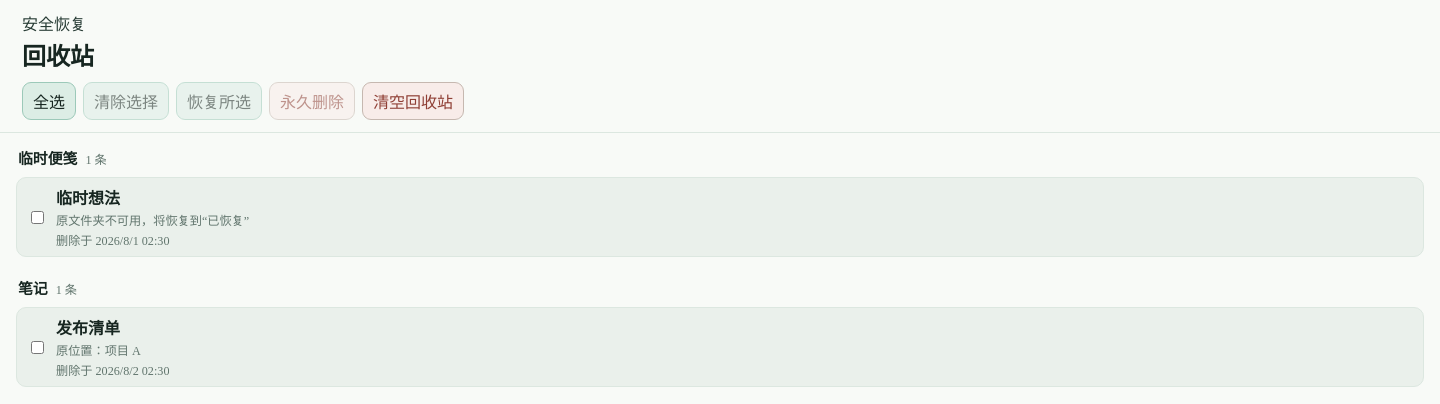
TrashView › multi-selects and restores entries while reporting the missing-folder recovery destination
Click the checkbox named "选择 发布清单": (38,347) [31,340,44,354]
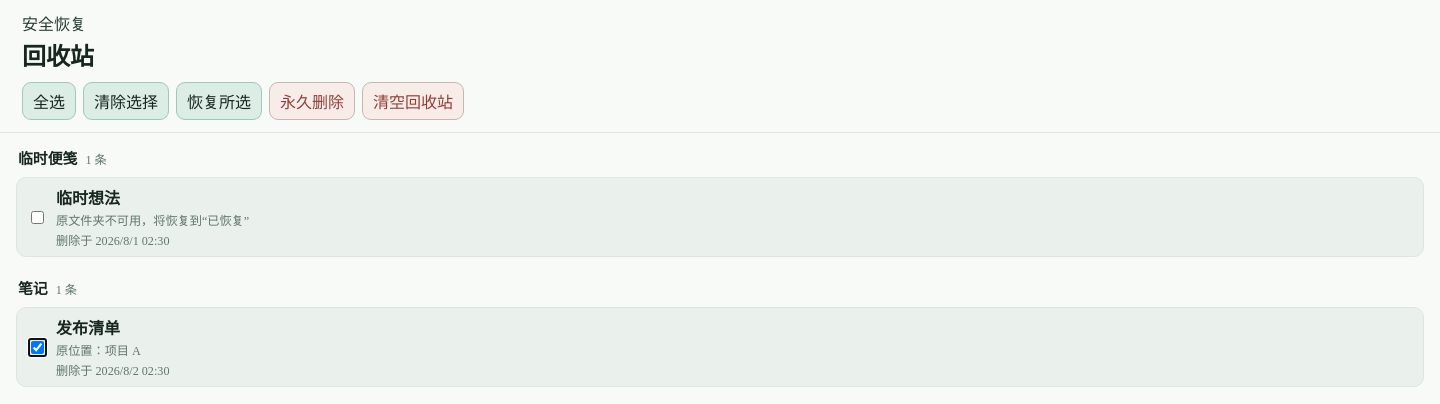
Click the checkbox named "选择 临时想法": (38,217) [31,210,44,224]
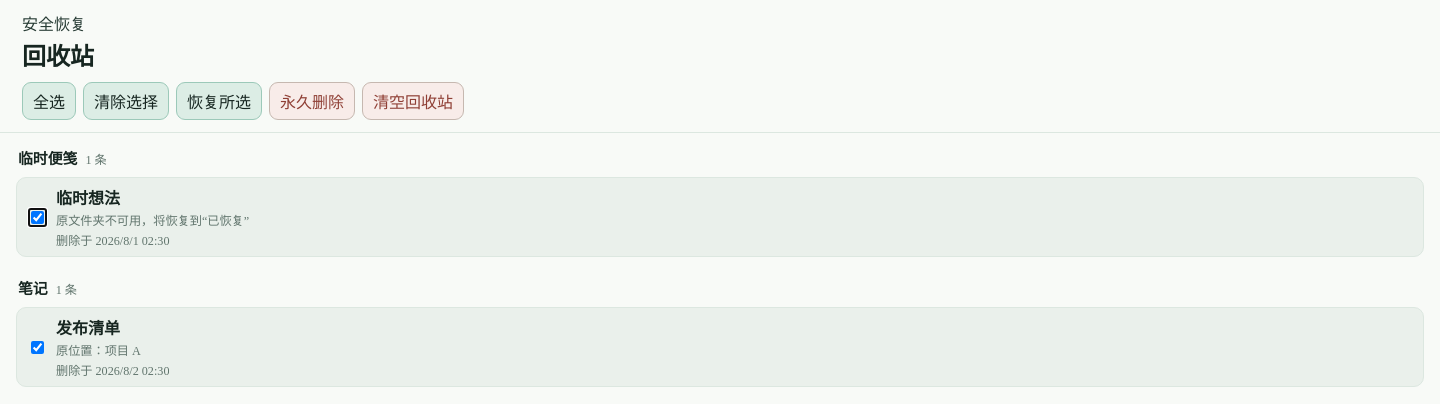
Click the button "恢复所选": (219,101) [176,82,262,120]
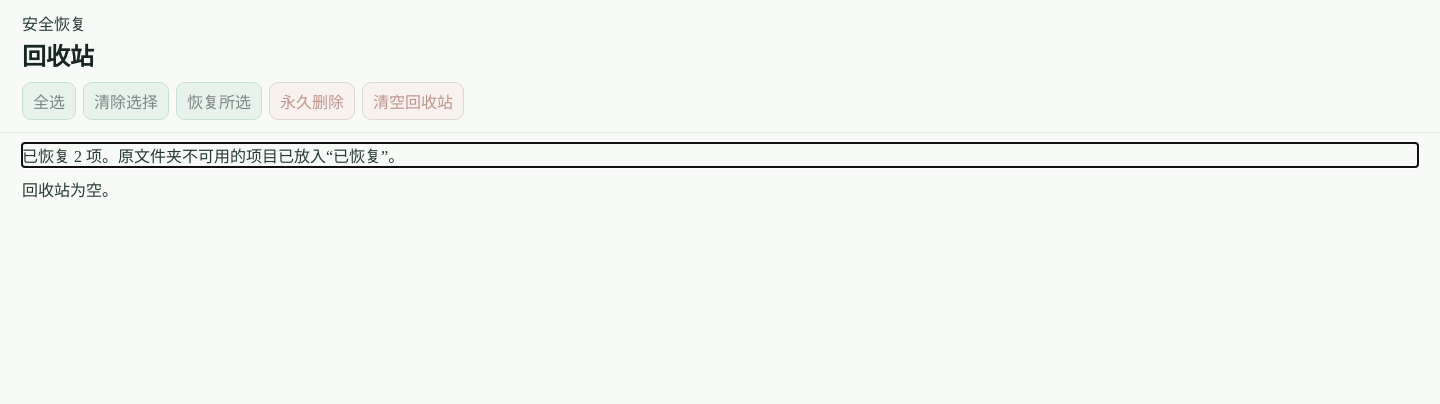
Result: the message shows "已恢复 2 项" at [22,148,404,165]
Result: the message shows "原文件夹不可用的项目已放入“已恢复”" at [22,148,404,165]
